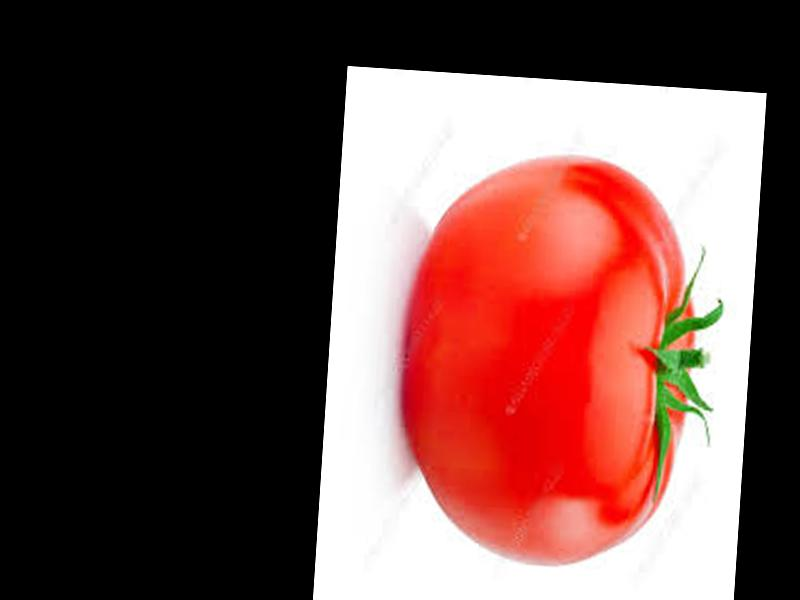Tomato: (400, 146, 705, 574)
